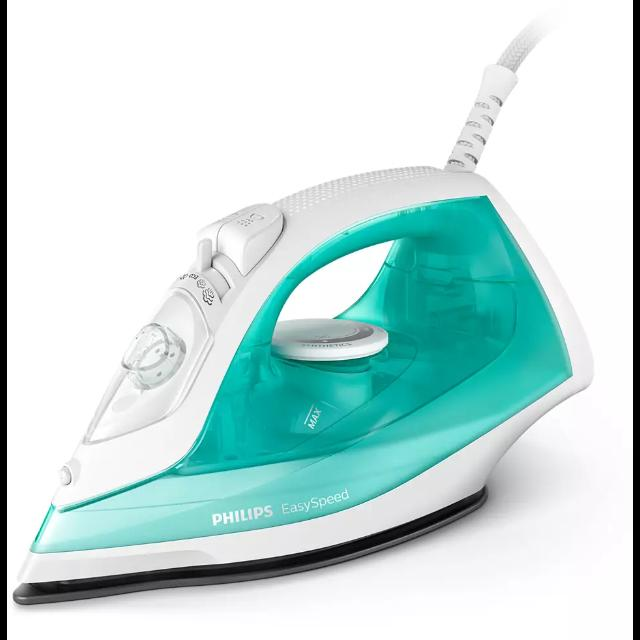Clothes-Iron: (12, 143, 610, 622)
